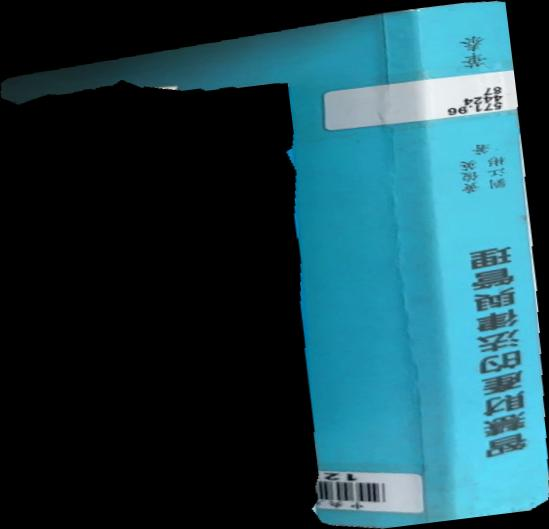reverse: (1, 1, 549, 529)
